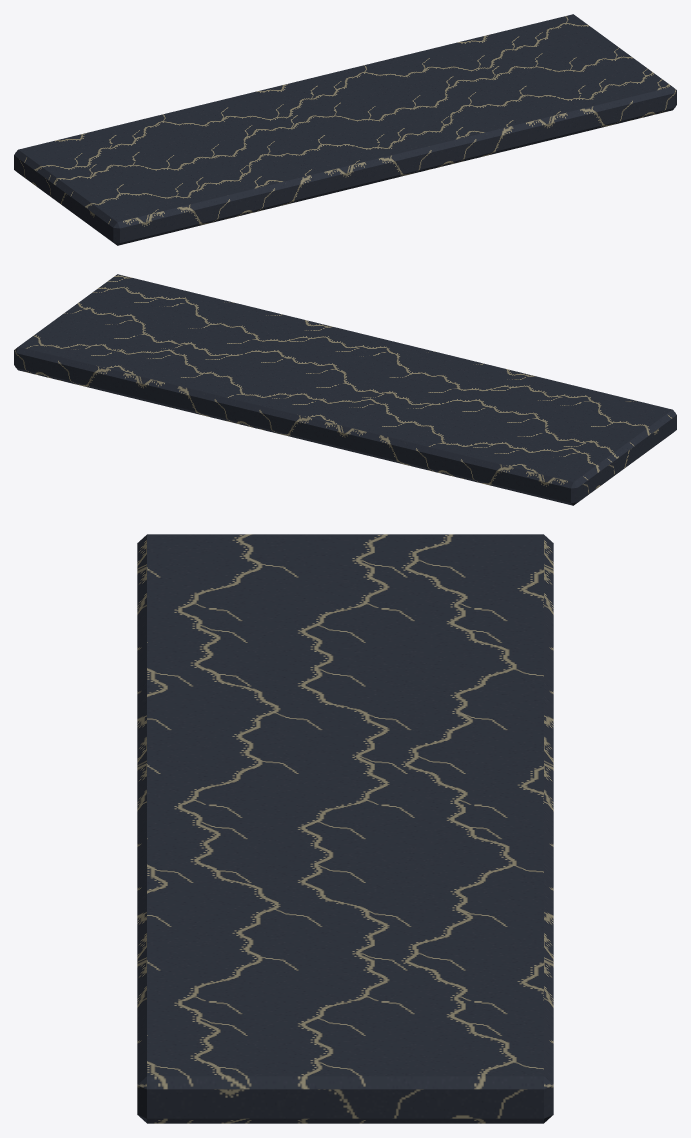
Rendered from MD_46_Countertop.fbx.
3 views of the same model, one above another, from view 1: azimuth 30°, elevation 25°; view 2: azimuth 150°, elevation 25°; view 3: azimuth 270°, elevation 25° (orthographic). The views are drawn at different scales.
Parts seen in each view (by area): view 1: MD_46_Countertop_bullnose_countertop; view 2: MD_46_Countertop_bullnose_countertop; view 3: MD_46_Countertop_bullnose_countertop.
Boxes of the visible parts, bbox=[...] form: MD_46_Countertop_bullnose_countertop: bbox=[14, 14, 676, 245]; MD_46_Countertop_bullnose_countertop: bbox=[14, 274, 676, 505]; MD_46_Countertop_bullnose_countertop: bbox=[137, 534, 553, 1123].
Size of the model in its own units: 2 by 0.08 by 0.64.
Materials: 1 (1 with a texture image).
